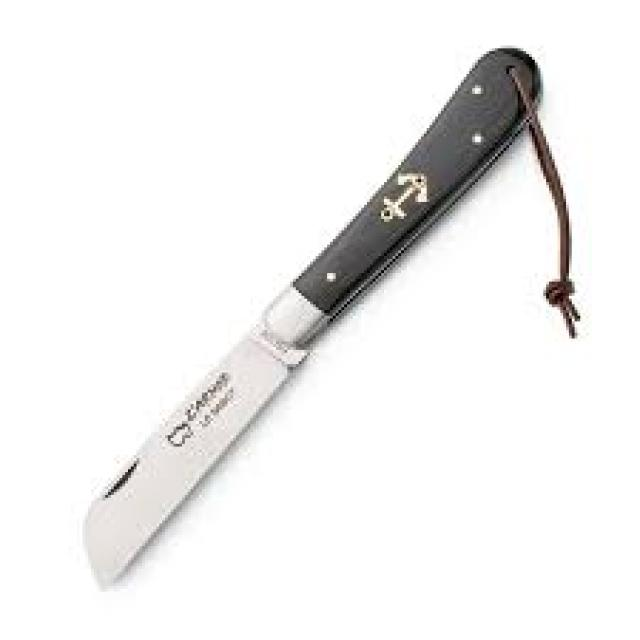knives: (74, 39, 555, 592)
